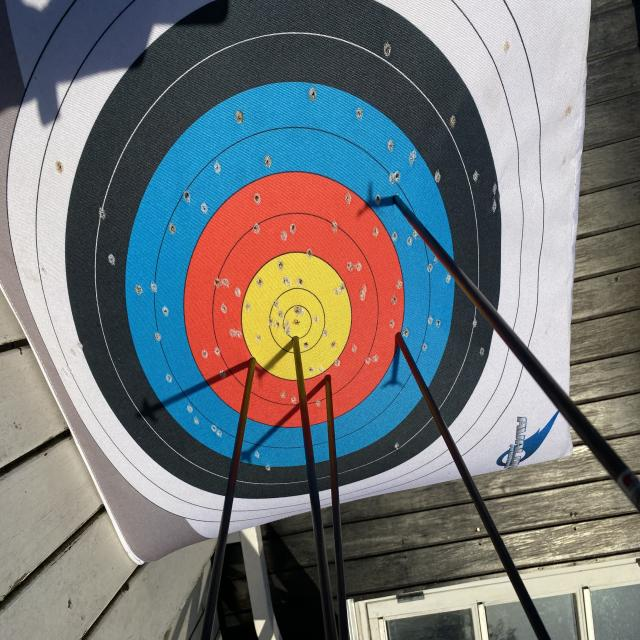Arrow_Blue: (376, 178, 414, 218)
Arrow_Red: (390, 318, 412, 356), (319, 361, 338, 396), (242, 351, 264, 380)
Arrow_Yellow: (285, 318, 307, 362)
